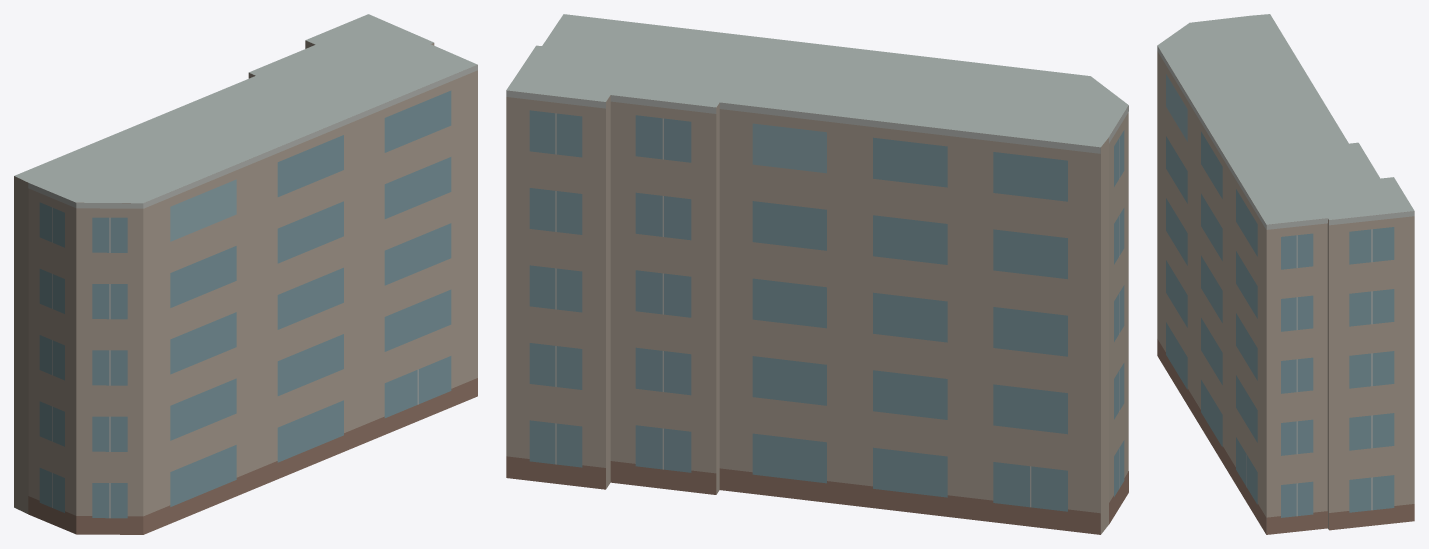
File: survey-upis-32544349.glb
3 renders of one model, left to right at view 1: azimuth 30°, elevation 25°; view 2: azimuth 150°, elevation 25°; view 3: azimuth 270°, elevation 25°, orthographic. The views are drawn at different scales.
Visible parts, largest first — view 1: survey-upis-32544349.tmp; view 2: survey-upis-32544349.tmp; view 3: survey-upis-32544349.tmp.
Boxes of the visible parts, x1=… form: survey-upis-32544349.tmp: x1=14, y1=14, x2=477, y2=534; survey-upis-32544349.tmp: x1=506, y1=14, x2=1128, y2=534; survey-upis-32544349.tmp: x1=1157, y1=14, x2=1414, y2=534.
Bounding box in the file's own units: 21.13 × 14.5 × 10.91.
